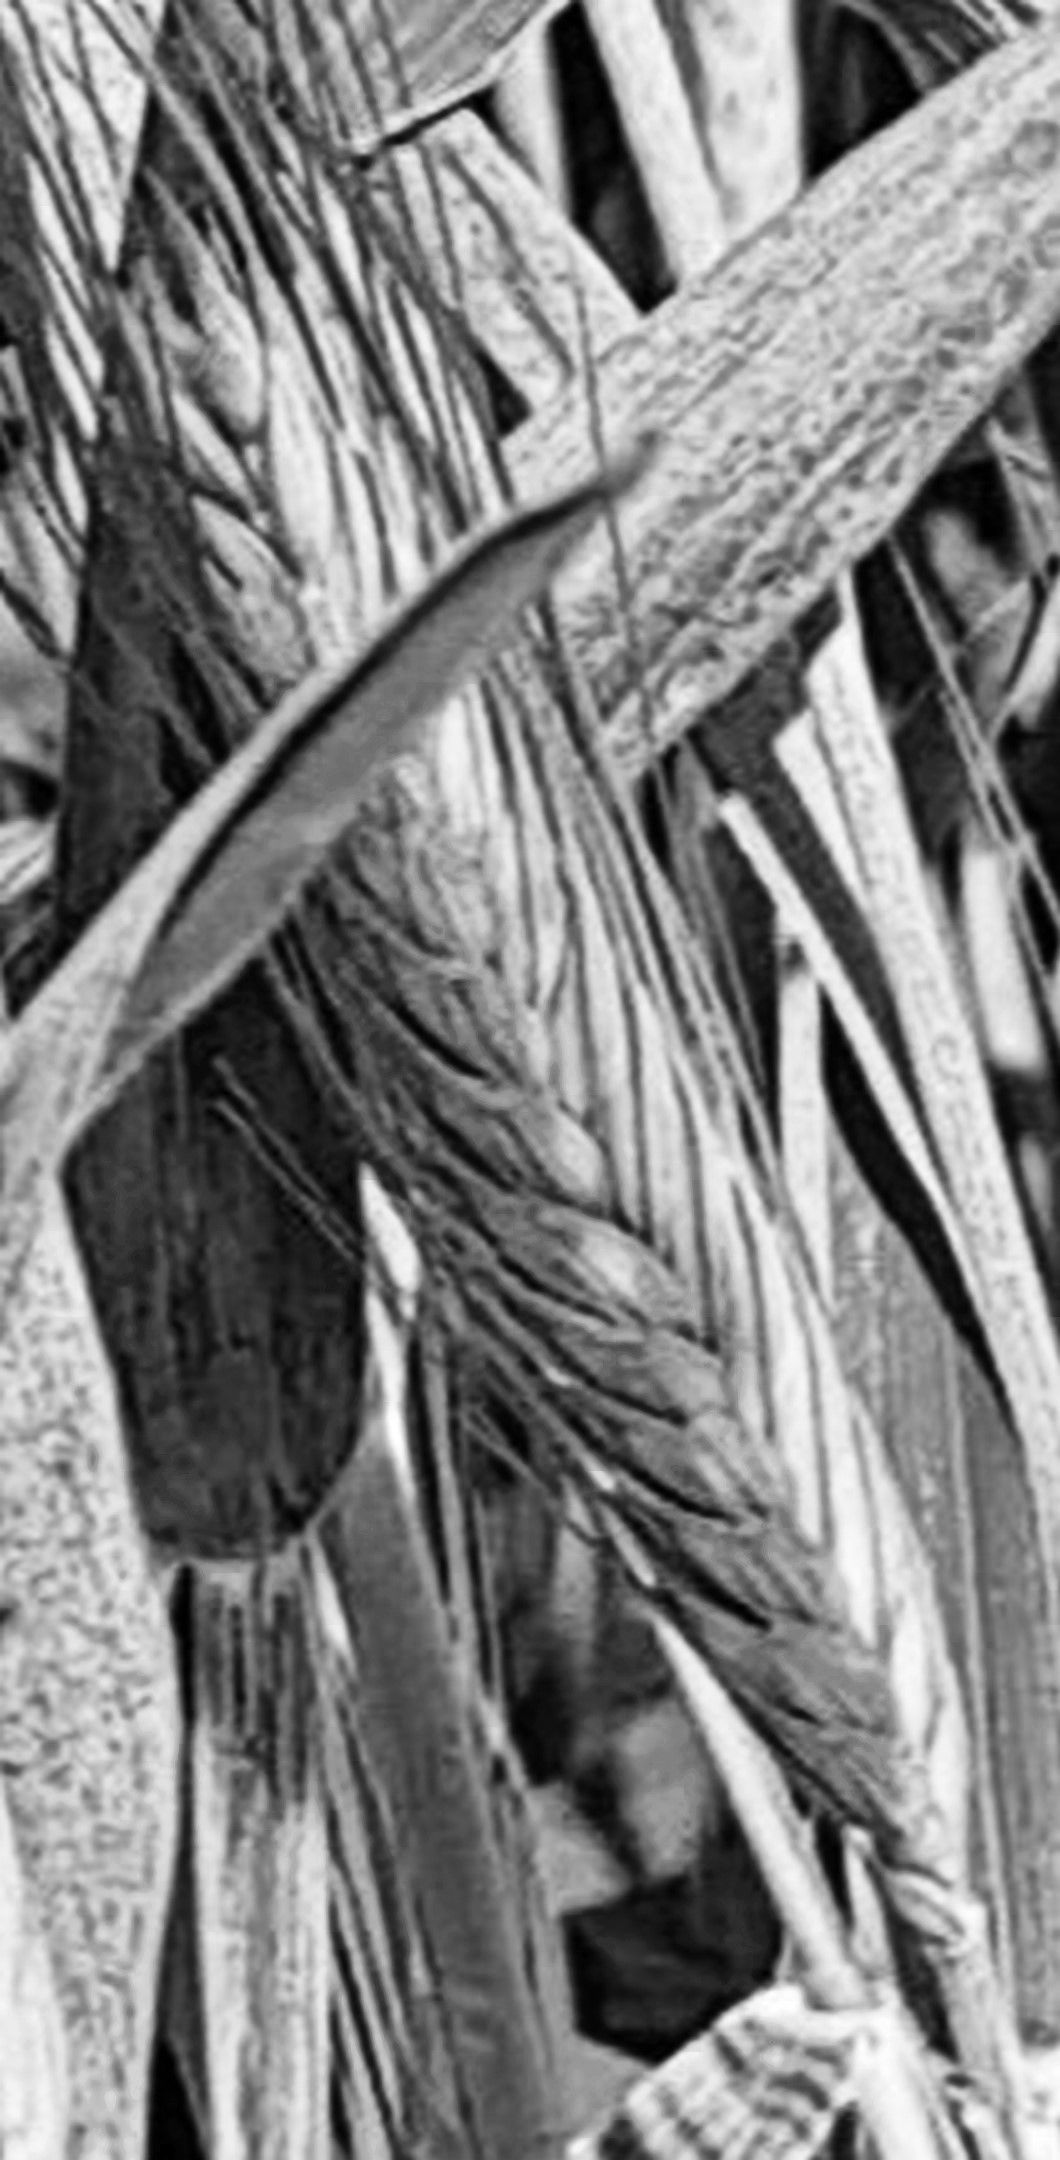Healthy Wheat: (96, 219, 1006, 1887)
